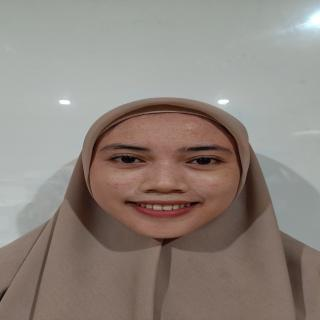Senang: (79, 108, 258, 248)
